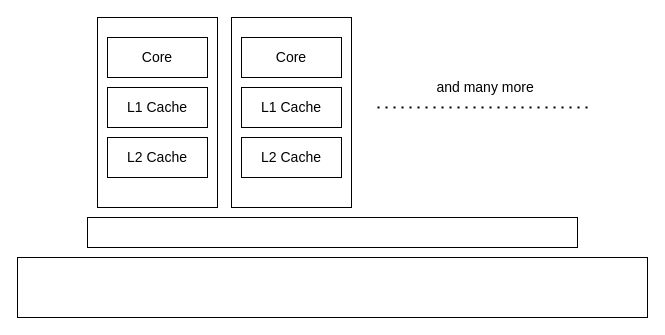
The diagram is 665 pixels wide and 335 high, and some of its shapes have lost their labels. Each missing label, with the centre of its shape:
"L3 Cache" goes at pixel 332 232.
"Memory" goes at pixel 332 287.
